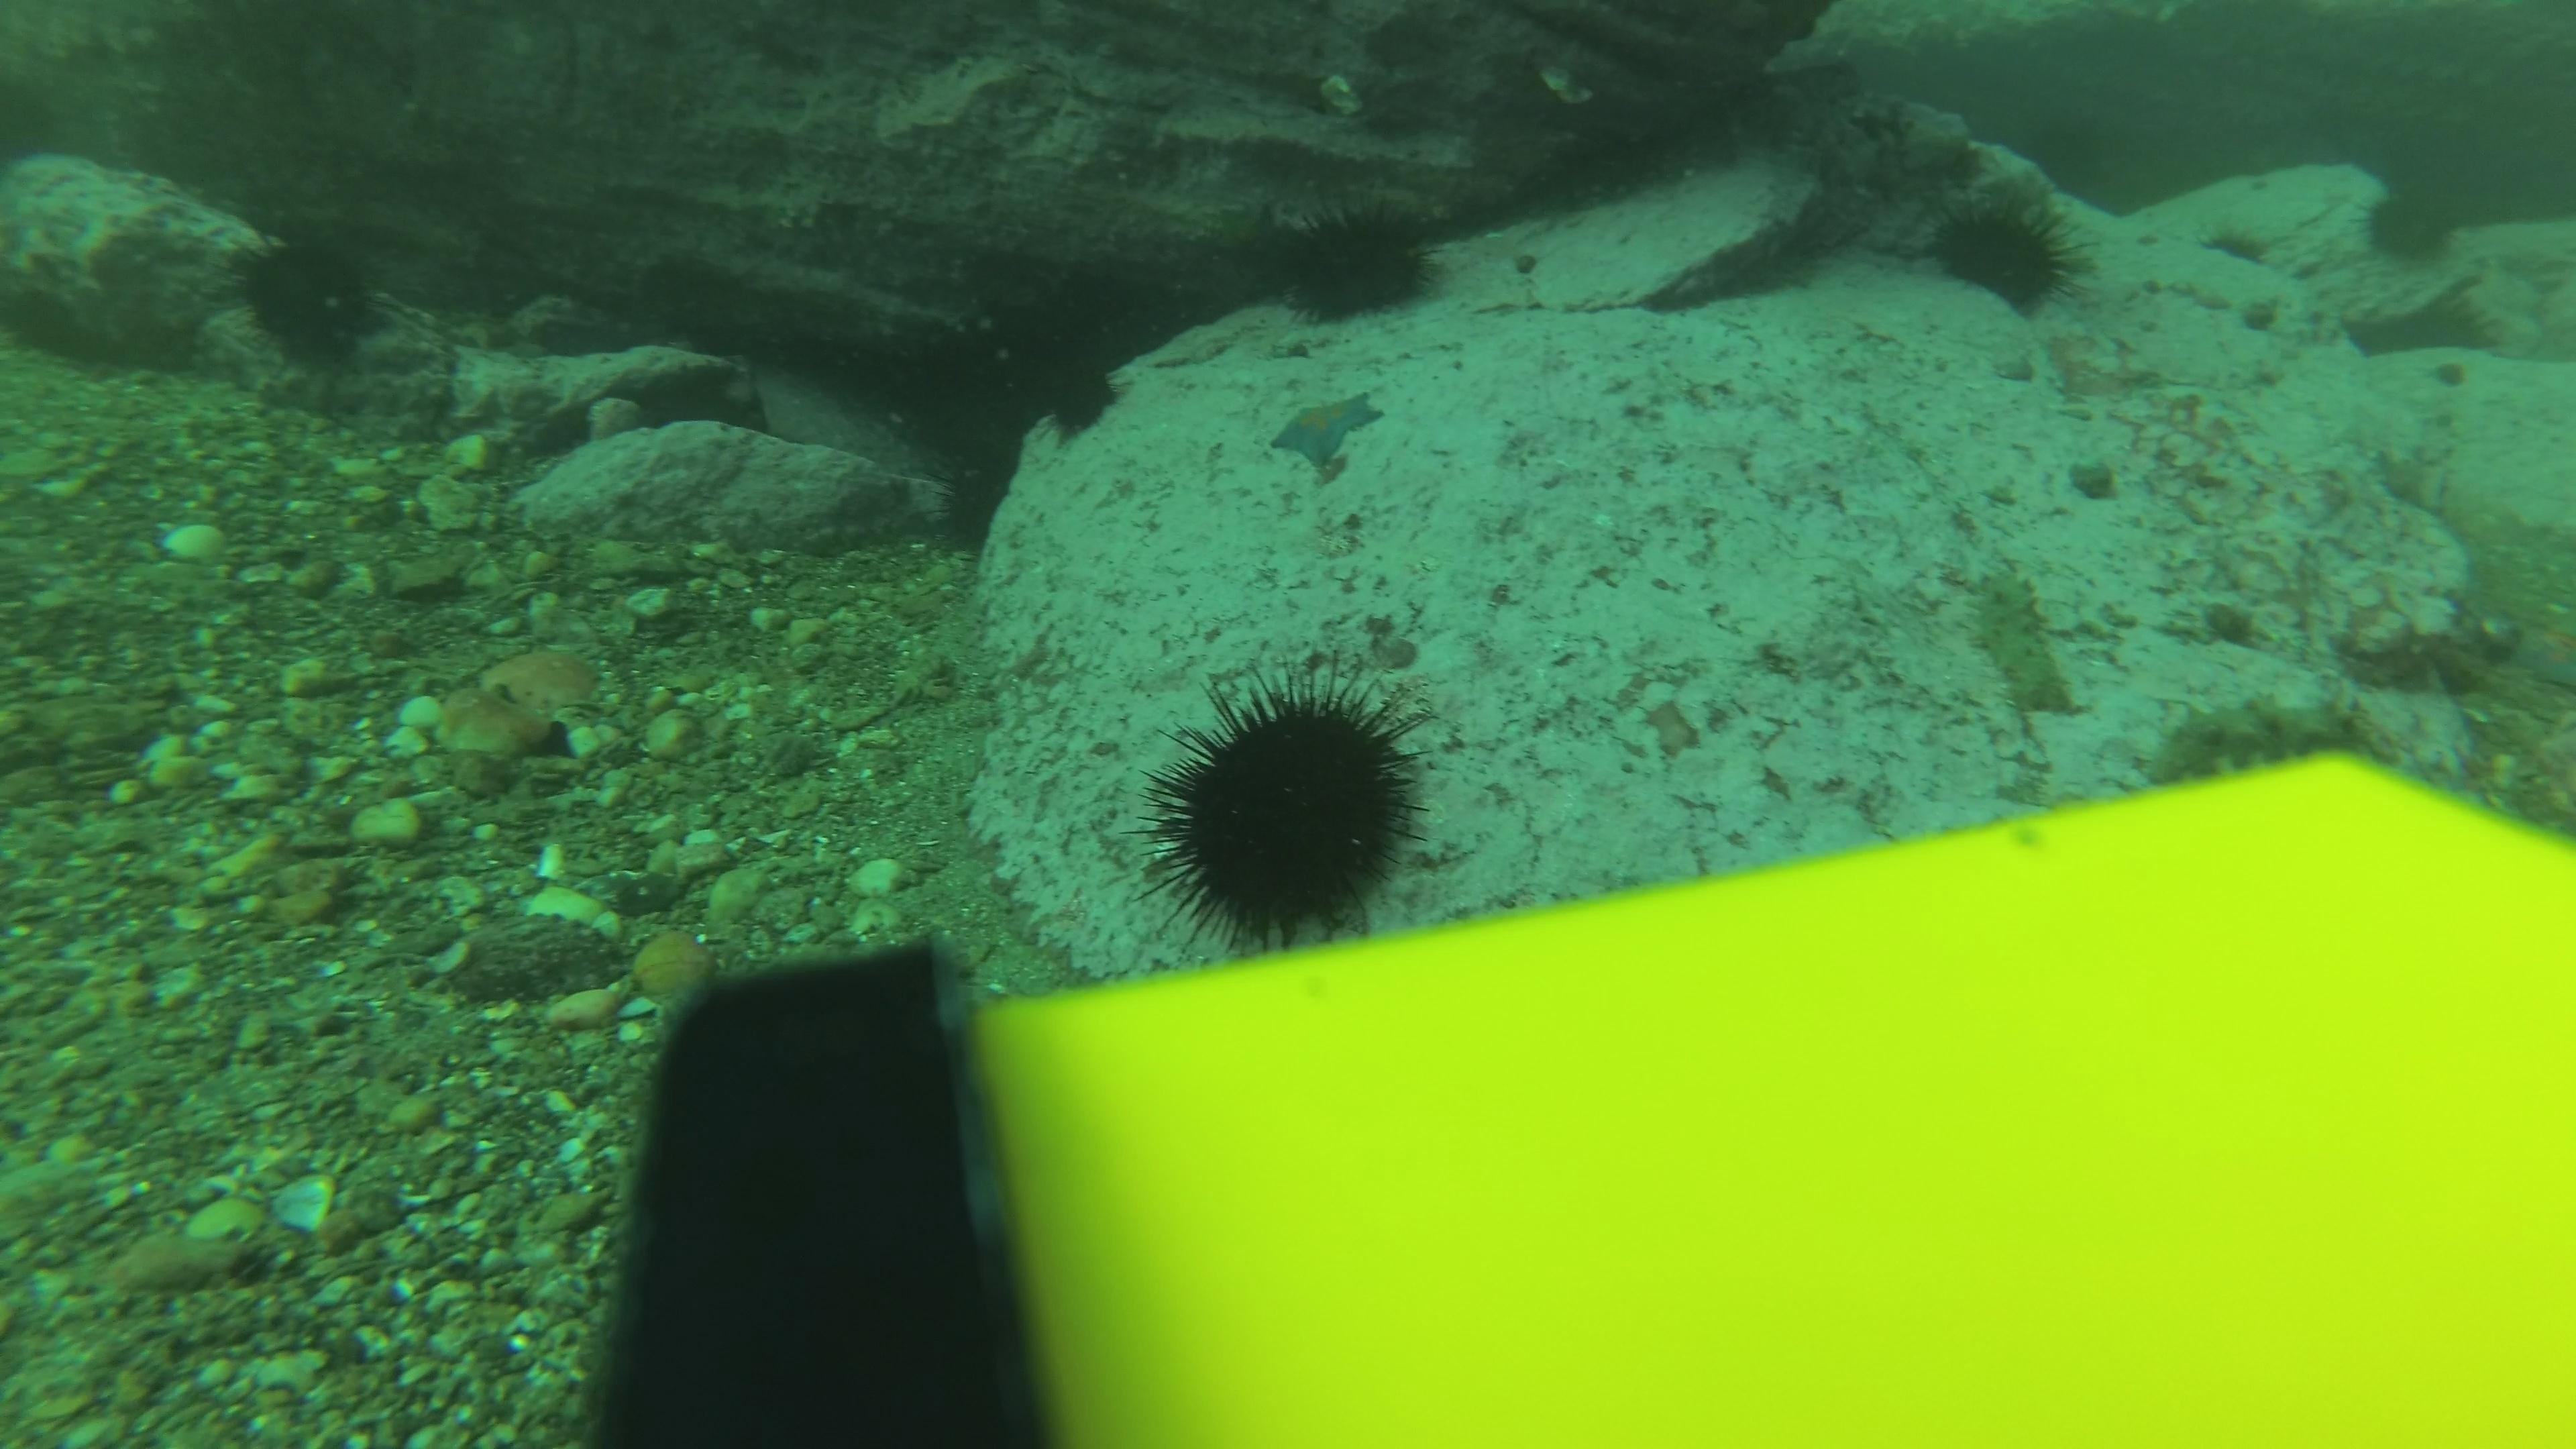echinus: (1134, 665, 1437, 945), (1265, 195, 1447, 329), (226, 225, 391, 368), (1921, 188, 2088, 317), (1028, 340, 1132, 444), (2353, 173, 2465, 271)
holothurian: (2130, 686, 2374, 791), (1962, 554, 2086, 724)
starfish: (1260, 384, 1389, 474), (2502, 598, 2576, 697), (2365, 441, 2450, 517)
